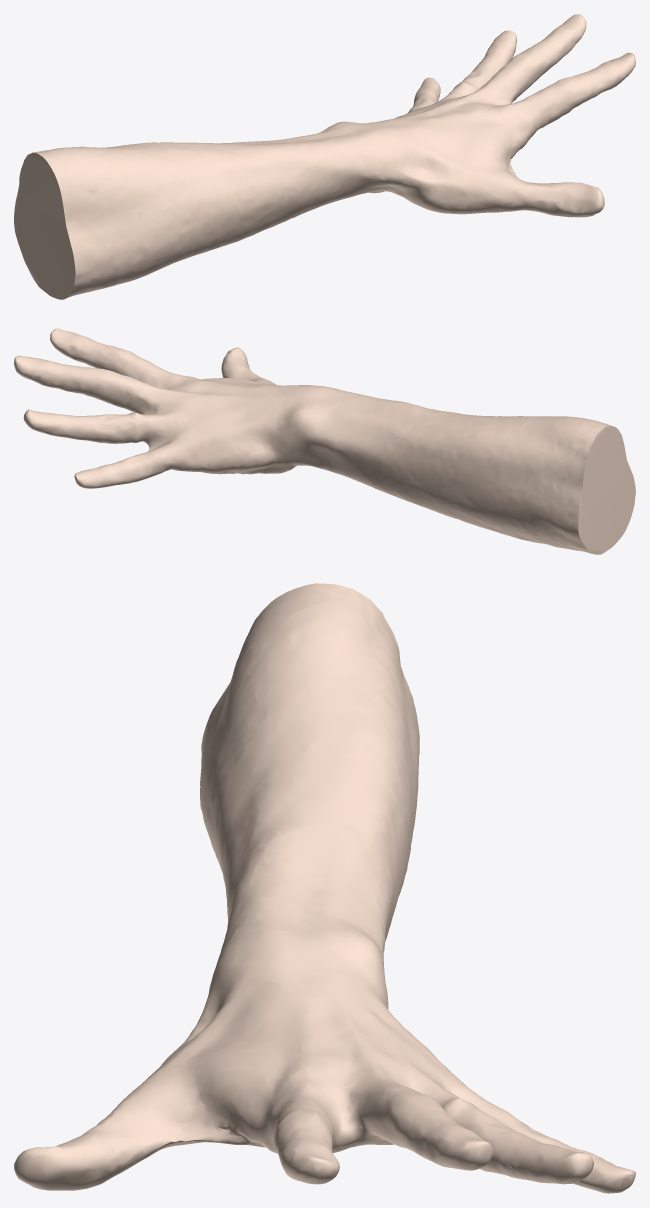
File: Give_you3.fbx
The picture shows the model from 3 angles, top to bottom: view 1: azimuth 30°, elevation 25°; view 2: azimuth 150°, elevation 25°; view 3: azimuth 270°, elevation 25°; orthographic projection. The views are drawn at different scales.
Visible parts, largest first — view 1: Give_you_my_hand; view 2: Give_you_my_hand; view 3: Give_you_my_hand.
Part boxes in pixels (x1,y1,x2,y2): Give_you_my_hand: (14,14,635,299); Give_you_my_hand: (14,328,635,554); Give_you_my_hand: (14,583,635,1193).
Bounding box in the file's own units: 100 × 21.75 × 51.82.
